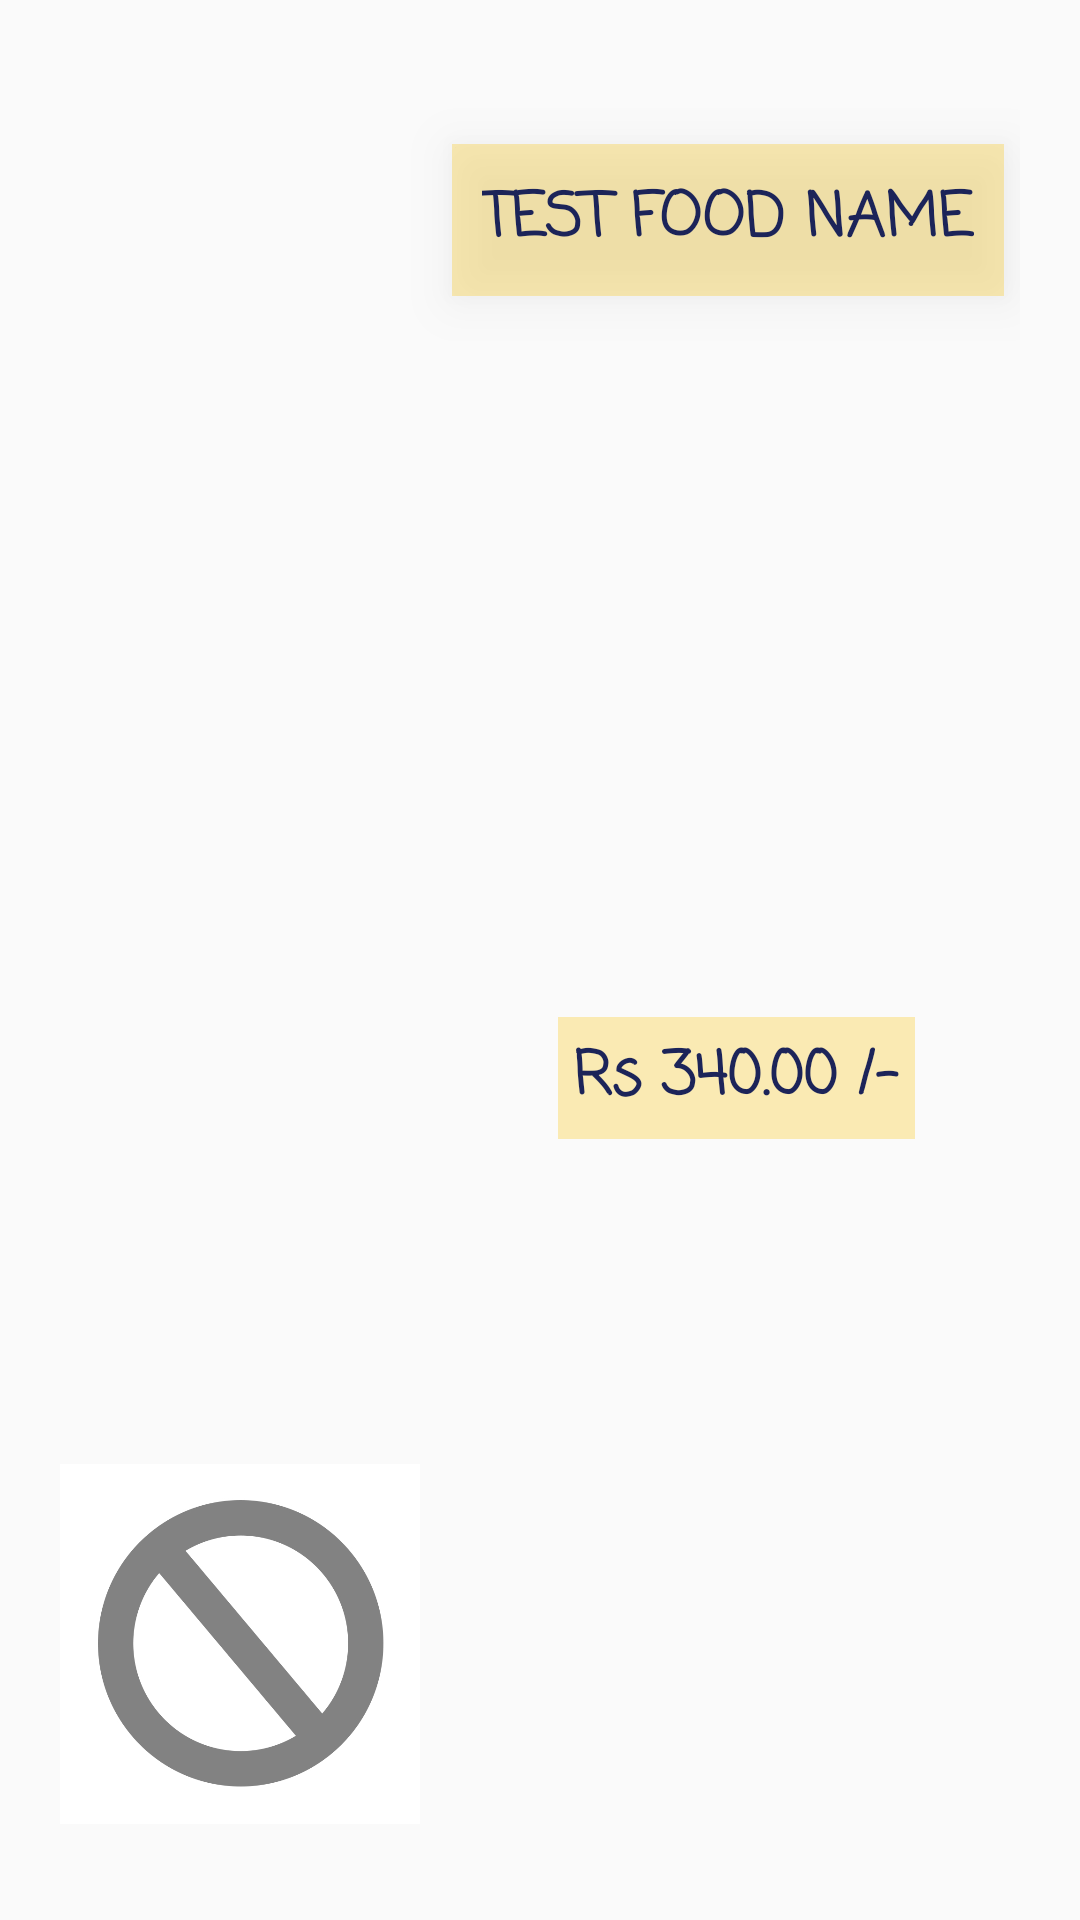

Where to tap for icons on this 1080px x 1920px app screen, as [x,y]:
noimage: [241,1643]
